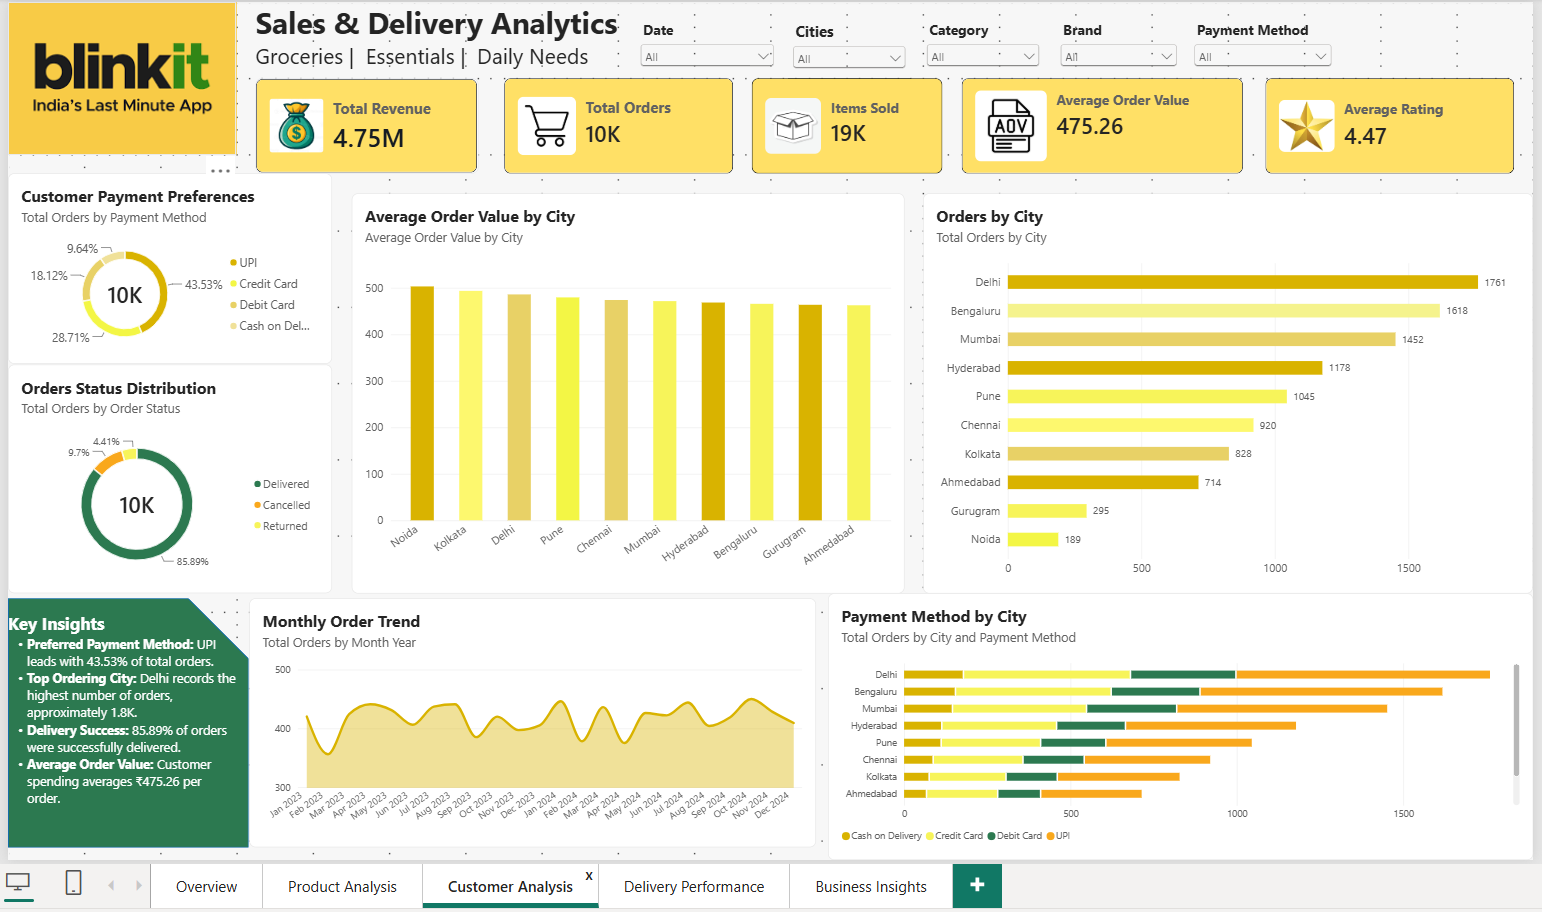

What the dashboard file says about the page in this screenshot:
{"tool":"powerbi","page":{"name":"Customer Analysis","canvas":[1920,1080],"ordinal":2},"visuals":[{"type":"donutChart","title":"Customer Payment Preferences","fields":{"Category":["Orders.Payment Method"],"Y":["Calendar1.Total Orders"]},"box":[0,216,408,240],"z":0},{"type":"clusteredBarChart","title":"Orders by City","fields":{"Category":["Orders.City"],"Y":["Calendar1.Total Orders"]},"box":[1152,240,768,504],"z":1},{"type":"clusteredColumnChart","title":"Average Order Value by City","fields":{"Category":["Orders.City"],"Y":["Calendar1.Average Order Value"]},"box":[432,240,696,504],"z":2},{"type":"donutChart","title":"Orders Status Distribution","fields":{"Category":["Orders.Order Status"],"Y":["Calendar1.Total Orders"]},"box":[0,456,408,288],"z":3},{"type":"lineChart","title":"Monthly Order Trend","fields":{"Category":["Calendar1.Month Year"],"Y":["Calendar1.Total Orders"]},"box":[303.5,750,713.4,314],"z":4},{"type":"barChart","title":"Payment Method by City","fields":{"Category":["Orders.City"],"Y":["Calendar1.Total Orders"],"Series":["Orders.Payment Method"]},"box":[1032,744,888,336],"z":5},{"type":"image","box":[0,0,287.8,191.9],"z":9},{"type":"cardVisual","fields":{"Data":["Calendar1.Total Revenue"]},"box":[312,96,280.8,120.3],"z":10},{"type":"cardVisual","fields":{"Data":["Calendar1.Total Orders"]},"box":[624,96,288,120],"z":11},{"type":"cardVisual","fields":{"Data":["Calendar1.Items Sold"]},"box":[936,96,240.7,120.3],"z":12},{"type":"cardVisual","fields":{"Data":["Calendar1.Average Order Value"]},"box":[1200,96,354.1,120.3],"z":13},{"type":"cardVisual","fields":{"Data":["Calendar1.Average Rating"]},"box":[1584,96,314,120.3],"z":14},{"type":"textbox","box":[312,0,576,96],"z":15},{"type":"textbox","box":[312,48,528,96],"z":16},{"type":"slicer","fields":{"Values":["Calendar1.Date"]},"box":[792,24,177.4,69.4],"z":17},{"type":"slicer","fields":{"Values":["Cities.City"]},"box":[984,24,151.6,69.4],"z":18},{"type":"slicer","fields":{"Values":["Orders.Category"]},"box":[1152,24,151.6,69.4],"z":19},{"type":"slicer","fields":{"Values":["Orders.Brand"]},"box":[1320,24,156.5,72.6],"z":20},{"type":"slicer","fields":{"Values":["Orders.Payment Method"]},"box":[1488,24,182.3,64.5],"z":21},{"type":"shape","box":[0,750,303,314],"z":22},{"type":"textbox","box":[0,768,288,288],"z":23}]}

Visuals, with their boxes on the page's 1920x1080 design canvas (x1, y1, x2, y2). These are canvas units, not pixel positions in the 1542x912 screenshot, which may show the page scaled, cropped or inside an application window:
"Customer Payment Preferences" donutChart: BBox(0, 216, 408, 456)
"Orders by City" clusteredBarChart: BBox(1152, 240, 1920, 744)
"Average Order Value by City" clusteredColumnChart: BBox(432, 240, 1128, 744)
"Orders Status Distribution" donutChart: BBox(0, 456, 408, 744)
"Monthly Order Trend" lineChart: BBox(304, 750, 1017, 1064)
"Payment Method by City" barChart: BBox(1032, 744, 1920, 1080)
image: BBox(0, 0, 288, 192)
cardVisual - Calendar1.Total Revenue: BBox(312, 96, 593, 216)
cardVisual - Calendar1.Total Orders: BBox(624, 96, 912, 216)
cardVisual - Calendar1.Items Sold: BBox(936, 96, 1177, 216)
cardVisual - Calendar1.Average Order Value: BBox(1200, 96, 1554, 216)
cardVisual - Calendar1.Average Rating: BBox(1584, 96, 1898, 216)
textbox: BBox(312, 0, 888, 96)
textbox: BBox(312, 48, 840, 144)
slicer - Calendar1.Date: BBox(792, 24, 969, 93)
slicer - Cities.City: BBox(984, 24, 1136, 93)
slicer - Orders.Category: BBox(1152, 24, 1304, 93)
slicer - Orders.Brand: BBox(1320, 24, 1476, 97)
slicer - Orders.Payment Method: BBox(1488, 24, 1670, 88)
shape: BBox(0, 750, 303, 1064)
textbox: BBox(0, 768, 288, 1056)
